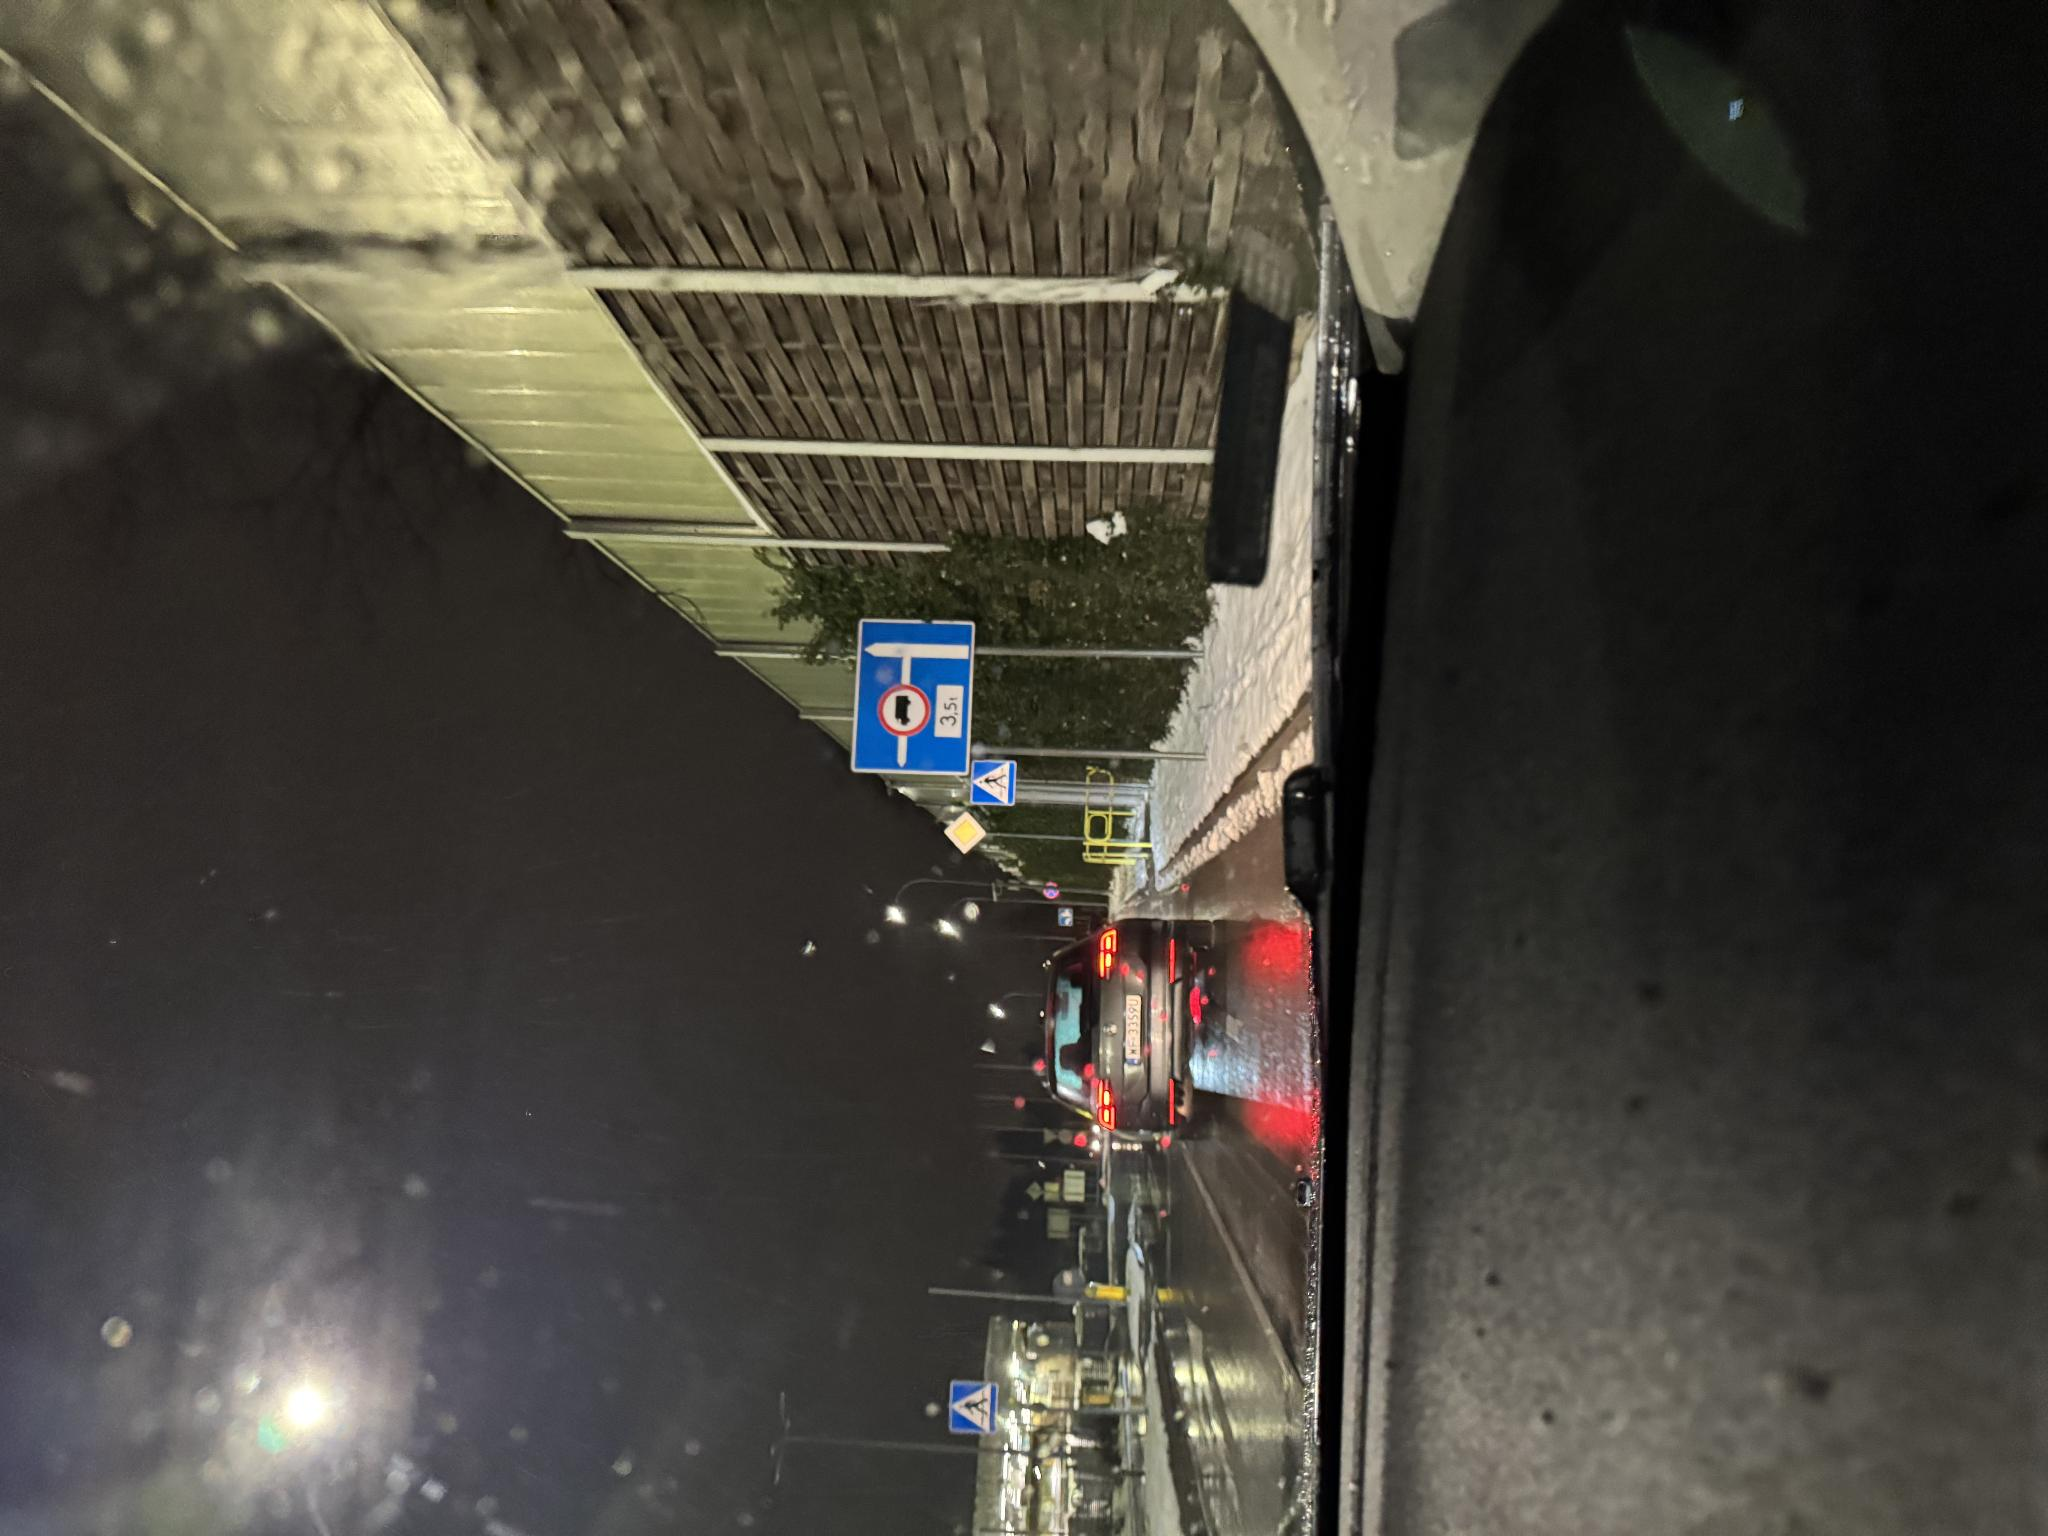information: (102, 949, 158, 999), (731, 970, 777, 1015), (682, 944, 724, 989)
other: (758, 849, 918, 973)
